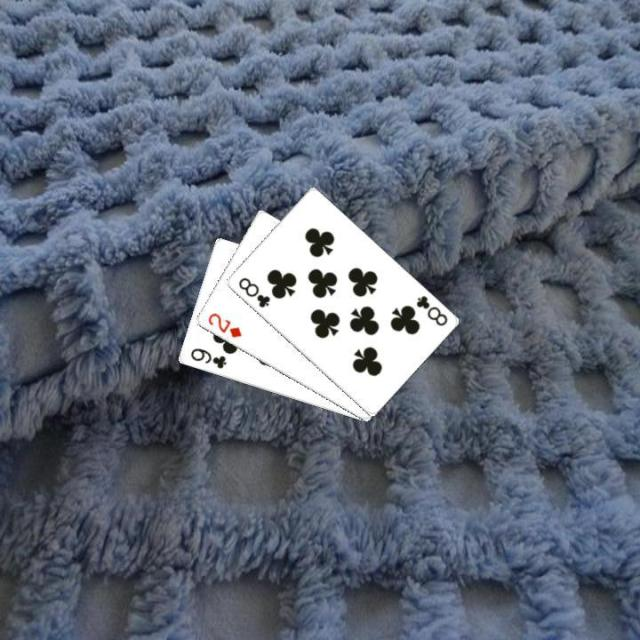2D: (204, 310, 244, 340)
8C: (411, 292, 449, 328), (234, 274, 272, 309)
9C: (186, 344, 228, 371)
